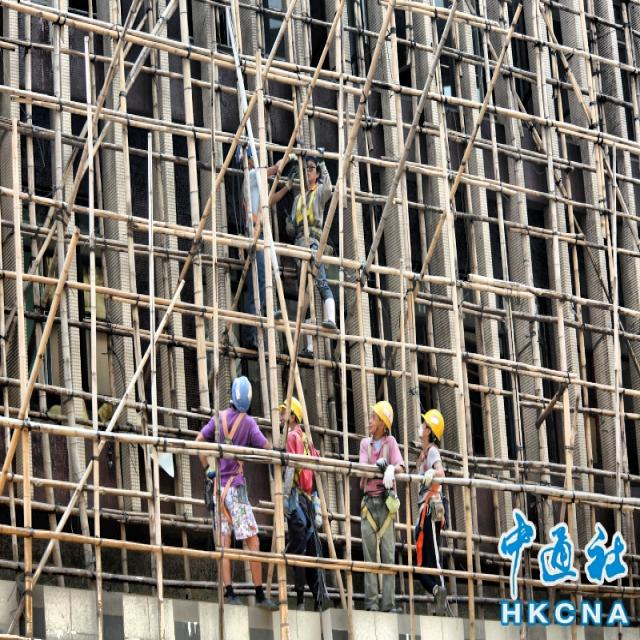safety_helmet: (418, 406, 448, 445), (368, 398, 397, 438)
safety_jacket: (224, 375, 252, 411), (274, 393, 309, 421)
